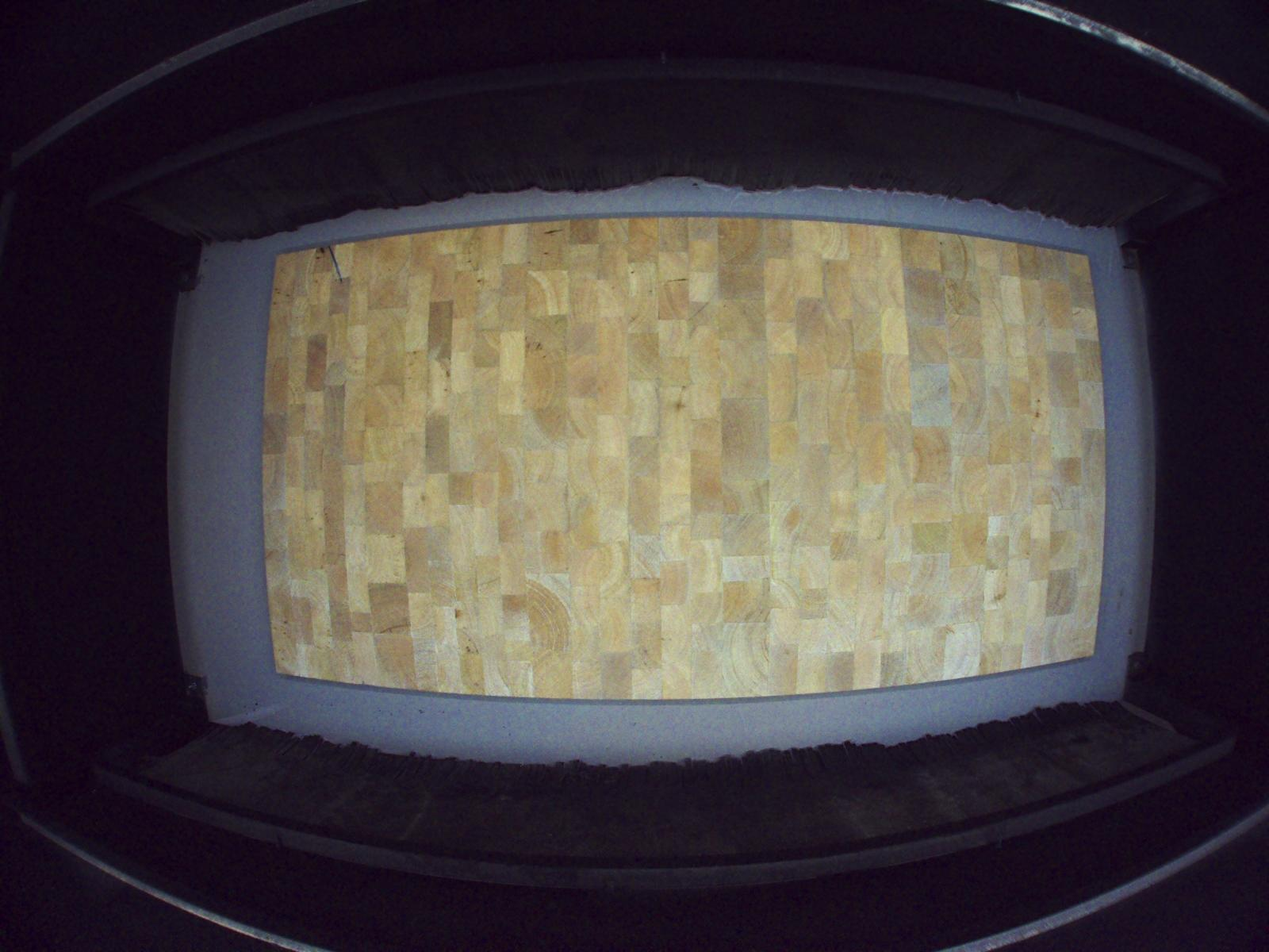nudillo: (314, 245, 329, 261)
